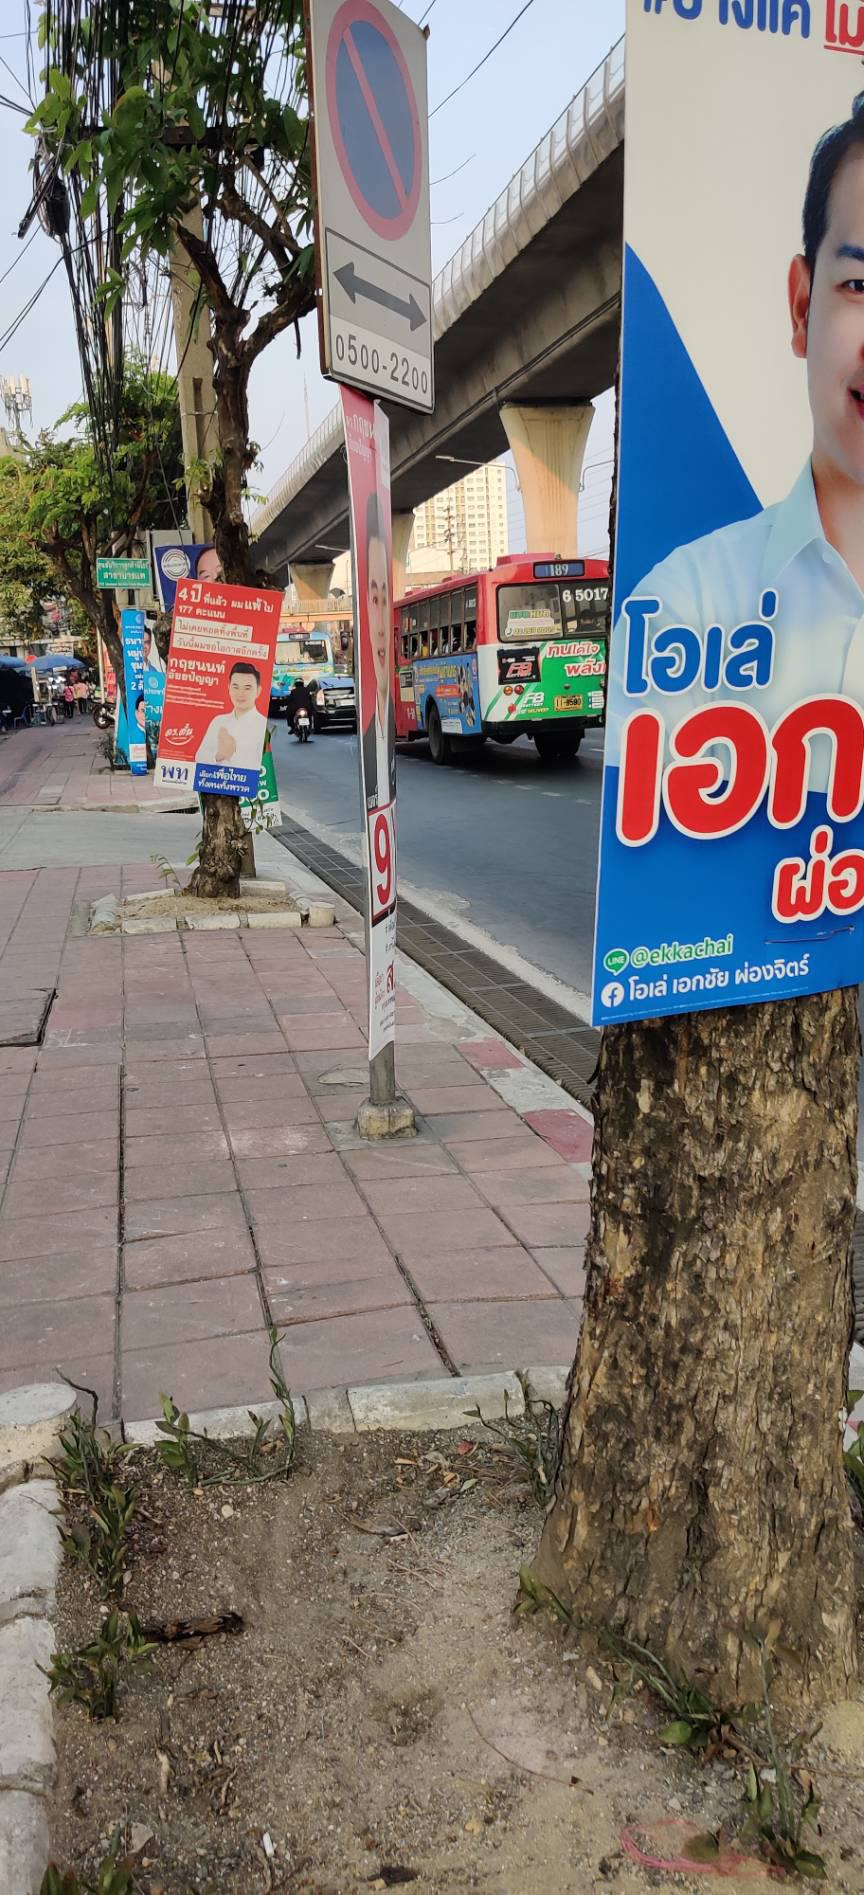Banner: (595, 0, 864, 1044)
